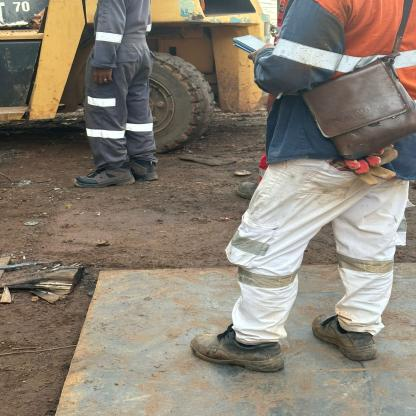bota: (189, 326, 287, 374), (308, 309, 375, 368), (75, 166, 135, 189), (121, 160, 160, 183)
